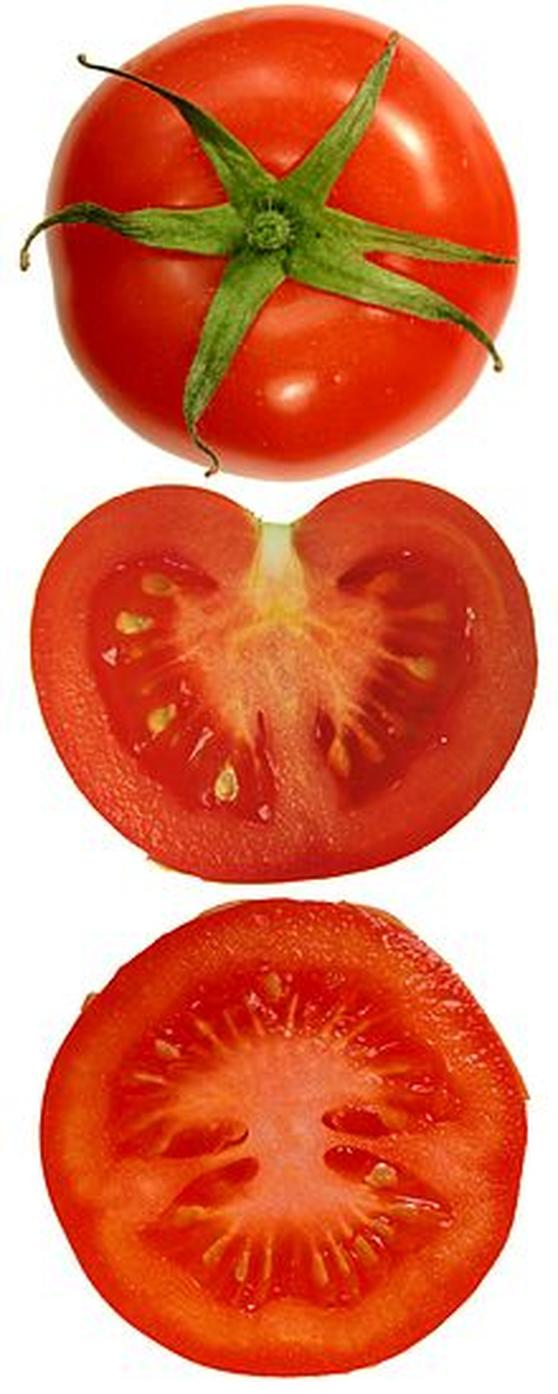tomato: (22, 13, 536, 481)
